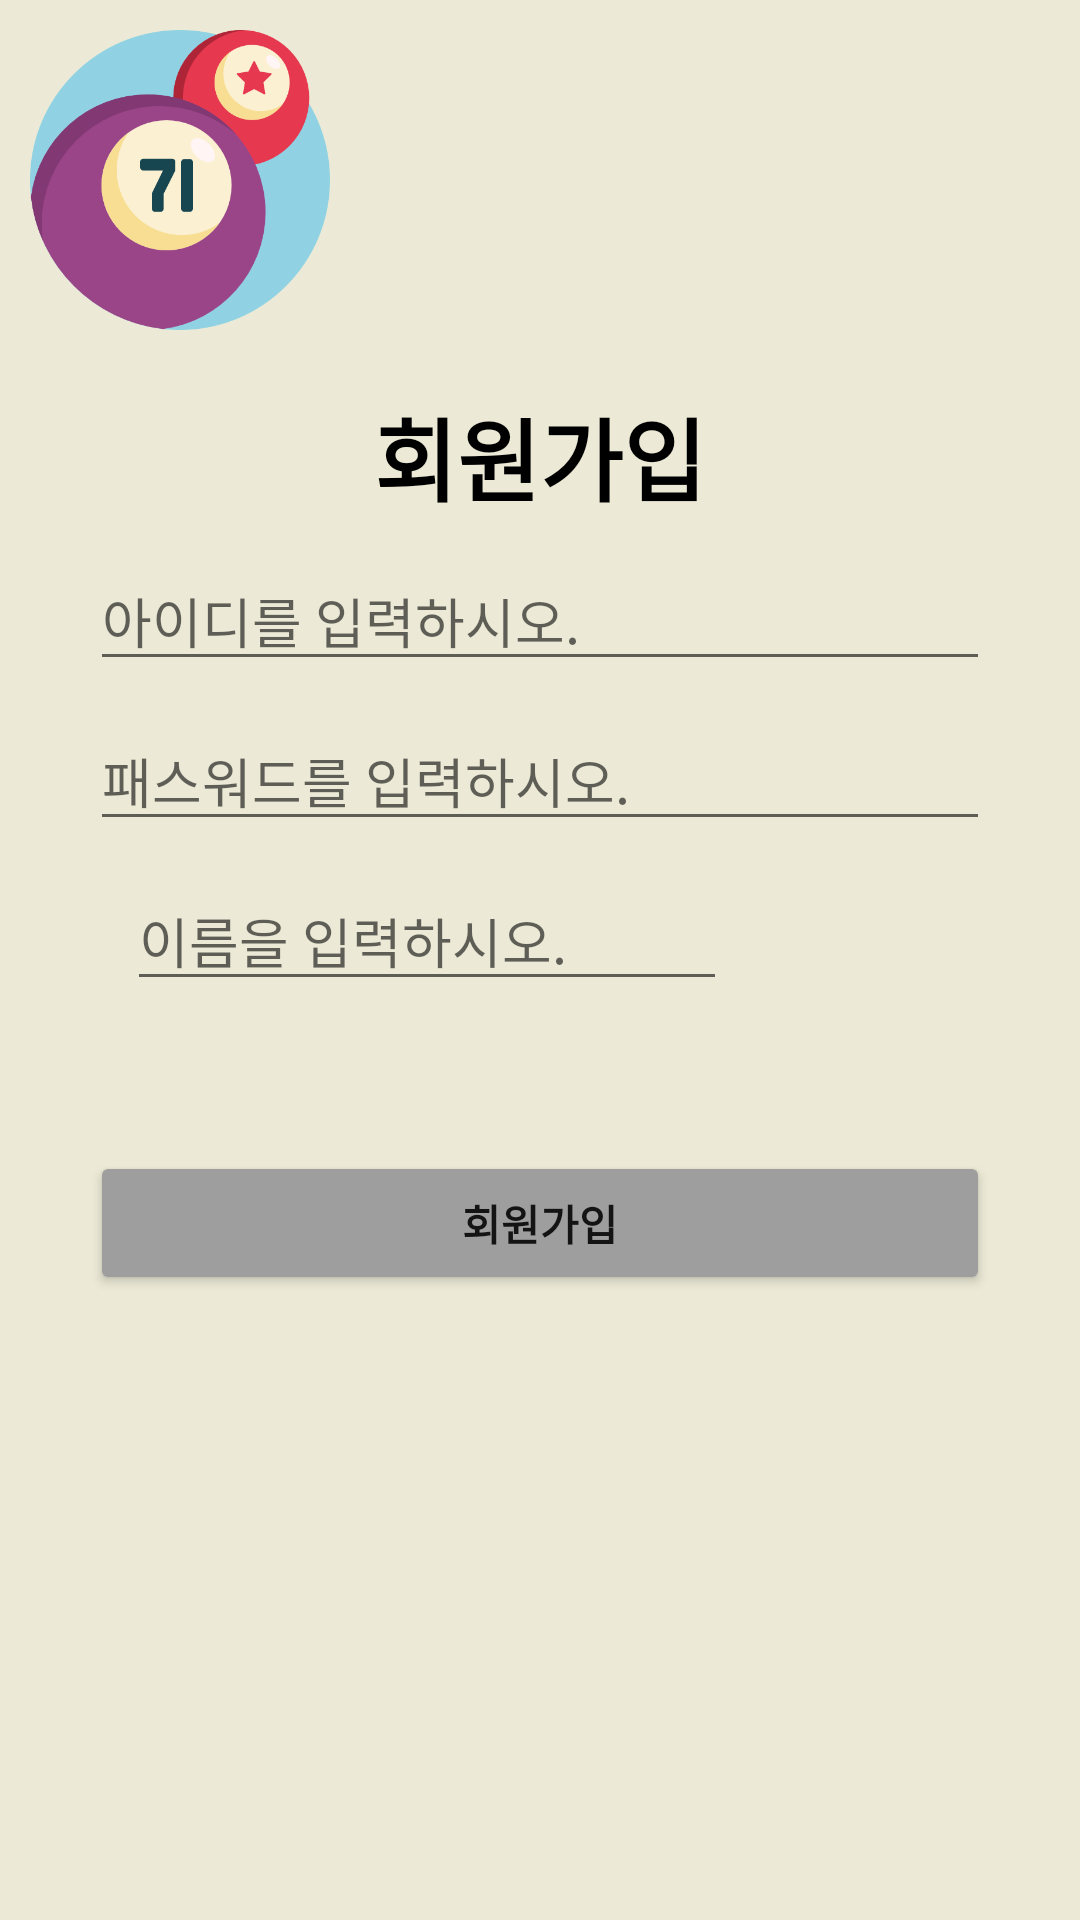

Screen size 1080×1920. Icon name, then its box in pixels as box=[x1, y1, x2, y2]:
lottery: box=[30, 30, 330, 330]
